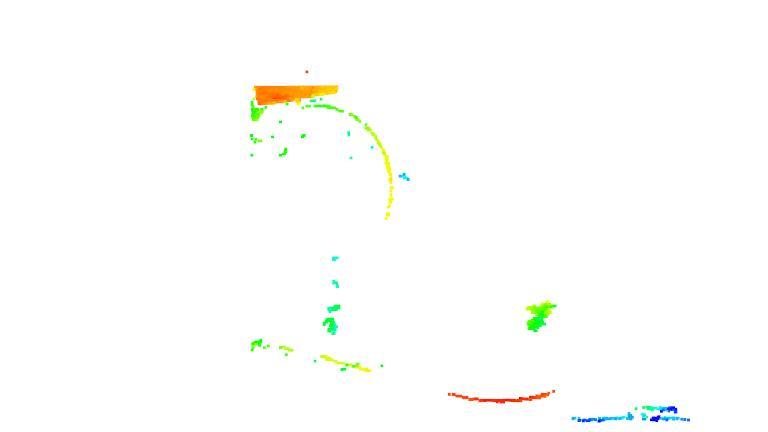chickpea: (521, 297, 560, 338), (319, 297, 349, 337)
